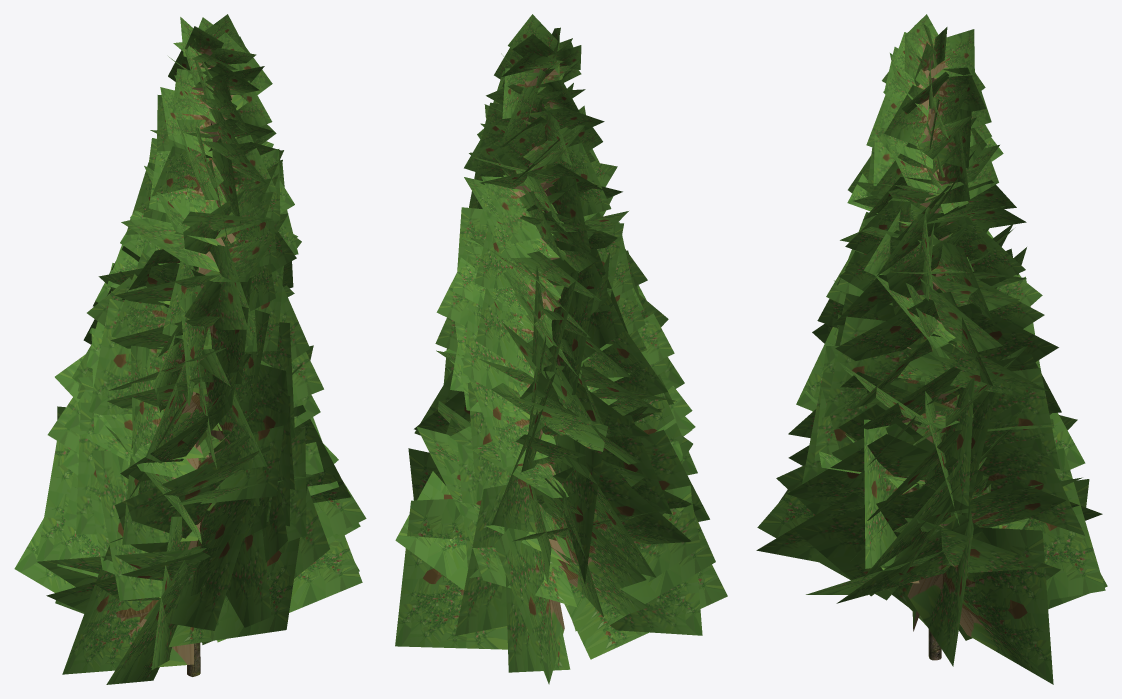
Rendered from o3_abete_stilizzato_3.glb.
3 renders of one model, left to right at view 1: azimuth 30°, elevation 25°; view 2: azimuth 150°, elevation 25°; view 3: azimuth 270°, elevation 25°, orthographic. The views are drawn at different scales.
Visible parts, largest first — view 1: sb_modello; view 2: sb_modello; view 3: sb_modello.
Boxes of the visible parts, x1,y1,x2,y2 form: sb_modello: (14, 14, 366, 684); sb_modello: (395, 14, 727, 684); sb_modello: (756, 14, 1107, 684).
Size of the model in its own units: 2.84 by 6 by 2.95.
2 materials, 2 textured.
